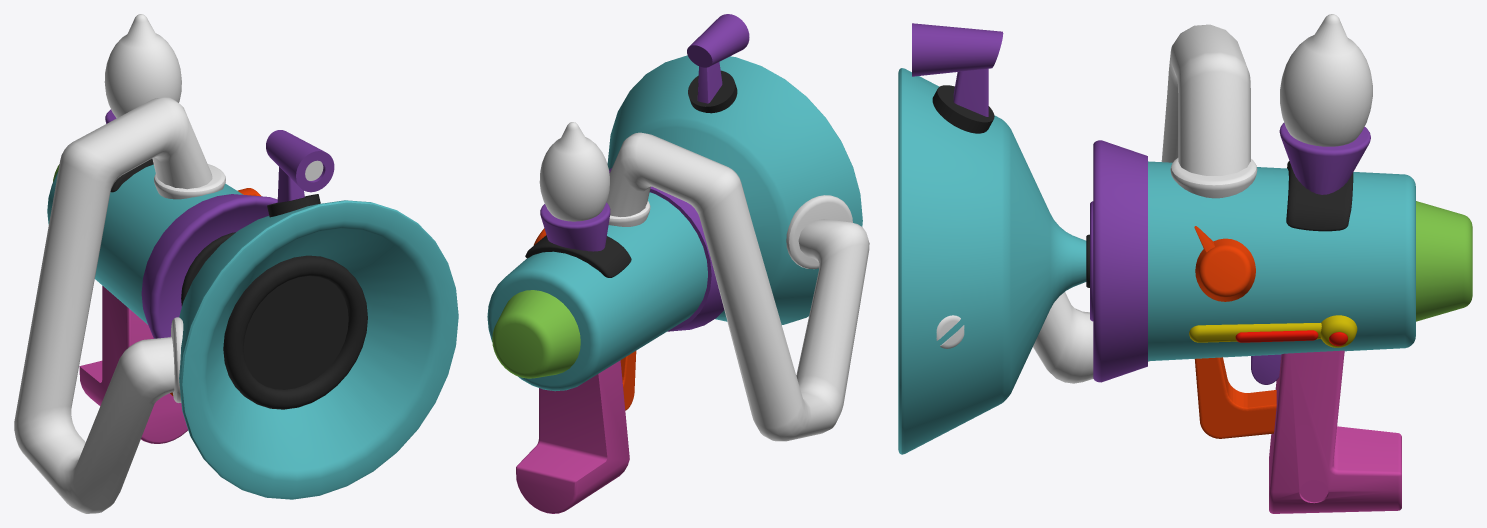
3 views of the same model, side by side, from view 1: azimuth 30°, elevation 25°; view 2: azimuth 150°, elevation 25°; view 3: azimuth 270°, elevation 25° (orthographic). The views are drawn at different scales.
Parts seen in each view (by area): view 1: Circle.006, Plane.001, Circle.016, Circle.001, Circle, Sphere, Circle.018, Circle.021, Circle.013, Circle.002, Circle.023, Circle.020 (+1 smaller); view 2: Plane.001, Circle.006, Circle.001, Circle.018, Circle.011, Sphere, Circle.021, Circle.012, Circle, Circle.023, Circle.014, Circle.020 (+3 smaller); view 3: Circle.006, Circle.001, Circle.018, Plane.001, Circle, Sphere, Circle.011, Plane.003, Circle.021, Circle.012, Circle.005, Circle.014 (+7 smaller).
Boxes of the visible parts, <box> form: Circle.006: <box>179,200,458,499</box>; Plane.001: <box>14,97,212,513</box>; Circle.016: <box>223,255,367,409</box>; Circle.001: <box>47,164,243,324</box>; Circle: <box>141,194,277,338</box>; Sphere: <box>104,14,181,118</box>; Circle.018: <box>79,286,187,443</box>; Circle.021: <box>266,130,334,192</box>; Circle.013: <box>154,164,225,199</box>; Circle.002: <box>181,232,235,305</box>; Circle.023: <box>170,317,183,402</box>; Circle.020: <box>267,194,320,217</box>; Plane.001: <box>606,132,869,441</box>; Circle.006: <box>607,55,862,324</box>; Circle.001: <box>487,192,707,391</box>; Circle.018: <box>516,360,629,513</box>; Circle.011: <box>492,290,580,378</box>; Sphere: <box>539,122,609,221</box>; Circle.021: <box>687,14,749,67</box>; Circle.012: <box>540,202,610,251</box>; Circle: <box>609,168,724,331</box>; Circle.023: <box>786,195,852,269</box>; Circle.014: <box>525,235,631,277</box>; Circle.020: <box>688,70,737,113</box>; Circle.006: <box>898,68,1086,454</box>; Circle.001: <box>1148,161,1415,361</box>; Circle.018: <box>1269,350,1401,513</box>; Plane.001: <box>1033,24,1250,383</box>; Circle: <box>1093,140,1147,382</box>; Sphere: <box>1280,14,1372,146</box>; Circle.011: <box>1416,201,1472,321</box>; Plane.003: <box>1194,357,1276,438</box>; Circle.021: <box>912,23,1003,76</box>; Circle.012: <box>1279,122,1370,194</box>; Circle.005: <box>1194,226,1255,301</box>; Circle.014: <box>1286,161,1353,231</box>.
Bounding box in the file's own units: 375 × 450 × 473.
